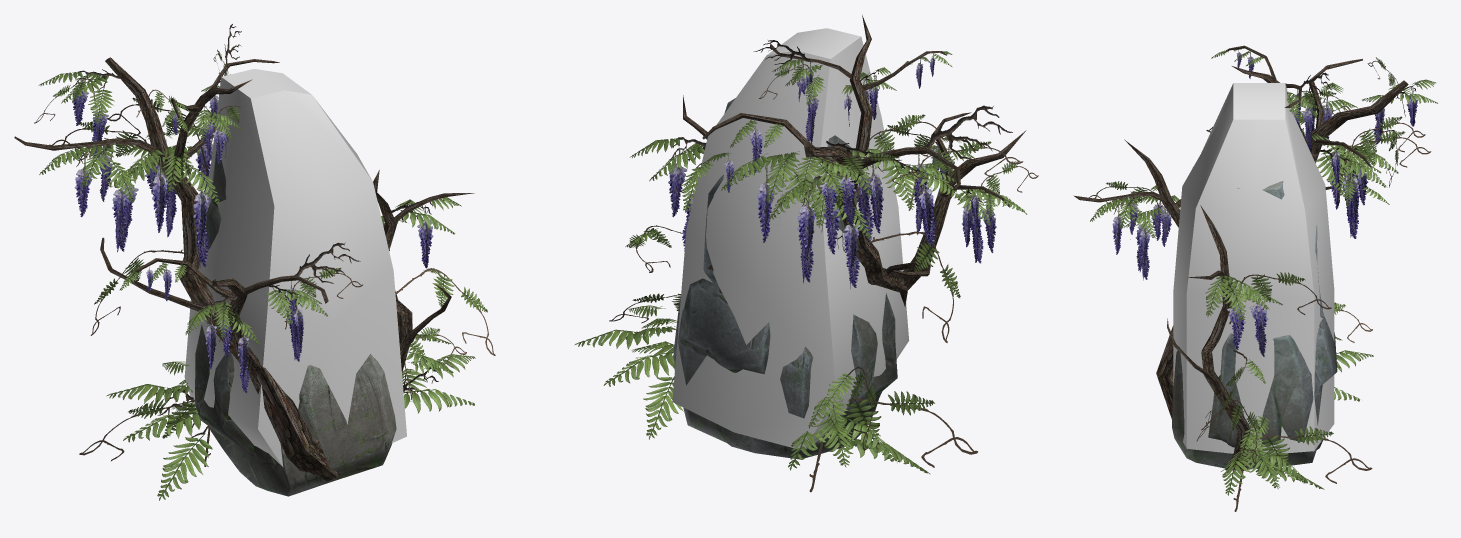
The model's file is Scene_Rock_HuanYinShi_1.FBX.
3 renders of one model, left to right at view 1: azimuth 30°, elevation 25°; view 2: azimuth 150°, elevation 25°; view 3: azimuth 270°, elevation 25°, orthographic. The views are drawn at different scales.
Parts seen in each view (by area): view 1: Scene_Rock_HuanYinShi_1_Xzm01, Scene_Tree_tengluo_2_b, Scene_Rock_HuanYinShi_1, Scene_Tree_tengluo_2_a, Scene_Tree_tengluo_3_b, Scene_Tree_tengluo_4, Scene_Tree_tengluo_3_a; view 2: Scene_Rock_HuanYinShi_1_Xzm01, Scene_Tree_tengluo_2_b, Scene_Rock_HuanYinShi_1, Scene_Tree_tengluo_2_a, Scene_Tree_tengluo_3_b, Scene_Tree_tengluo_4; view 3: Scene_Rock_HuanYinShi_1_Xzm01, Scene_Tree_tengluo_2_b, Scene_Rock_HuanYinShi_1, Scene_Tree_tengluo_3_b, Scene_Tree_tengluo_2_a, Scene_Tree_tengluo_3_a, Scene_Tree_tengluo_4.
Boxes of the visible parts, <box> form: Scene_Rock_HuanYinShi_1_Xzm01: <box>184,69,406,466</box>; Scene_Tree_tengluo_2_b: <box>34,24,362,392</box>; Scene_Rock_HuanYinShi_1: <box>195,149,396,496</box>; Scene_Tree_tengluo_2_a: <box>14,57,338,481</box>; Scene_Tree_tengluo_3_b: <box>381,197,495,413</box>; Scene_Tree_tengluo_4: <box>79,361,212,500</box>; Scene_Tree_tengluo_3_a: <box>373,170,474,372</box>; Scene_Rock_HuanYinShi_1_Xzm01: <box>672,28,909,449</box>; Scene_Tree_tengluo_2_b: <box>684,40,1038,342</box>; Scene_Rock_HuanYinShi_1: <box>673,98,897,459</box>; Scene_Tree_tengluo_2_a: <box>702,15,1026,306</box>; Scene_Tree_tengluo_3_b: <box>575,136,707,439</box>; Scene_Tree_tengluo_4: <box>788,366,977,492</box>; Scene_Rock_HuanYinShi_1_Xzm01: <box>1173,83,1334,454</box>; Scene_Tree_tengluo_2_b: <box>1089,49,1437,280</box>; Scene_Rock_HuanYinShi_1: <box>1172,181,1337,469</box>; Scene_Tree_tengluo_3_b: <box>1196,268,1372,511</box>; Scene_Tree_tengluo_2_a: <box>1073,45,1408,419</box>; Scene_Tree_tengluo_3_a: <box>1167,205,1250,470</box>; Scene_Tree_tengluo_4: <box>1334,302,1373,401</box>.
Bounding box in the file's own units: 930 × 892 × 768.
